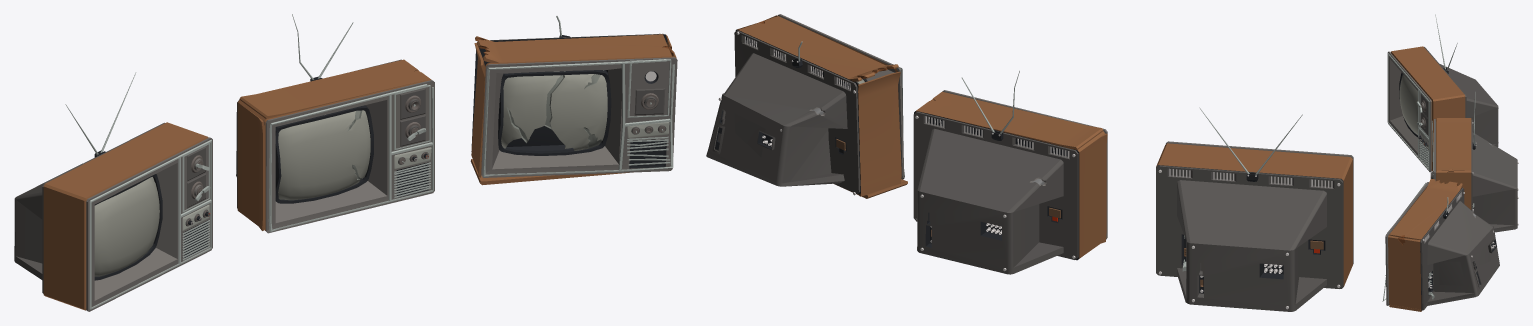
3 views of the same model, side by side, from view 1: azimuth 30°, elevation 25°; view 2: azimuth 150°, elevation 25°; view 3: azimuth 270°, elevation 25° (orthographic). The views are drawn at different scales.
Visible parts, largest first — view 1: pCube10, polySurface54, polySurface34, pCube268, pCube150, pCube36, polySurface33, polySurface36, polySurface35, pCube267, pCube151, polySurface3 (+11 smaller); view 2: polySurface1, polySurface31, polySurface28, polySurface3, polySurface51, pCube107, pCube10, polySurface50, pCube201, polySurface52, polySurface33, pCube273 (+4 smaller); view 3: pCube10, polySurface51, polySurface54, polySurface50, polySurface31, polySurface36, polySurface33, polySurface28, polySurface1, pCube273, polySurface34, pCube36 (+6 smaller).
Part boxes in pixels (x1,y1,x2,y2): pCube10: [43, 122, 212, 311]; polySurface54: [471, 34, 677, 177]; polySurface34: [238, 70, 434, 233]; pCube268: [501, 70, 607, 150]; pCube150: [278, 110, 370, 200]; pCube36: [94, 177, 159, 276]; polySurface33: [239, 59, 429, 118]; polySurface36: [475, 34, 671, 62]; polySurface35: [237, 102, 264, 230]; pCube267: [482, 59, 674, 176]; pCube151: [268, 84, 433, 232]; polySurface3: [14, 199, 42, 279]; polySurface1: [1177, 180, 1326, 250]; polySurface31: [917, 128, 1063, 212]; polySurface28: [917, 191, 1063, 274]; polySurface3: [1177, 241, 1326, 311]; polySurface51: [706, 93, 844, 186]; pCube107: [1156, 165, 1342, 288]; pCube10: [1156, 141, 1353, 288]; polySurface50: [724, 53, 847, 128]; pCube201: [913, 111, 1078, 259]; polySurface52: [858, 71, 901, 196]; polySurface33: [916, 91, 1103, 149]; pCube273: [734, 30, 860, 193]; pCube10: [1387, 46, 1465, 172]; polySurface51: [1427, 226, 1499, 305]; polySurface54: [1385, 182, 1462, 310]; polySurface50: [1427, 201, 1492, 264]; polySurface31: [1472, 132, 1517, 196]; polySurface36: [1389, 178, 1463, 240]; polySurface33: [1437, 118, 1471, 172]; polySurface28: [1472, 188, 1517, 232]; polySurface1: [1440, 64, 1498, 117]; pCube273: [1420, 188, 1464, 310]; polySurface34: [1434, 119, 1471, 209]; pCube36: [1399, 75, 1417, 134].
Size of the model in its own units: 25.23 by 7.12 by 7.44.
